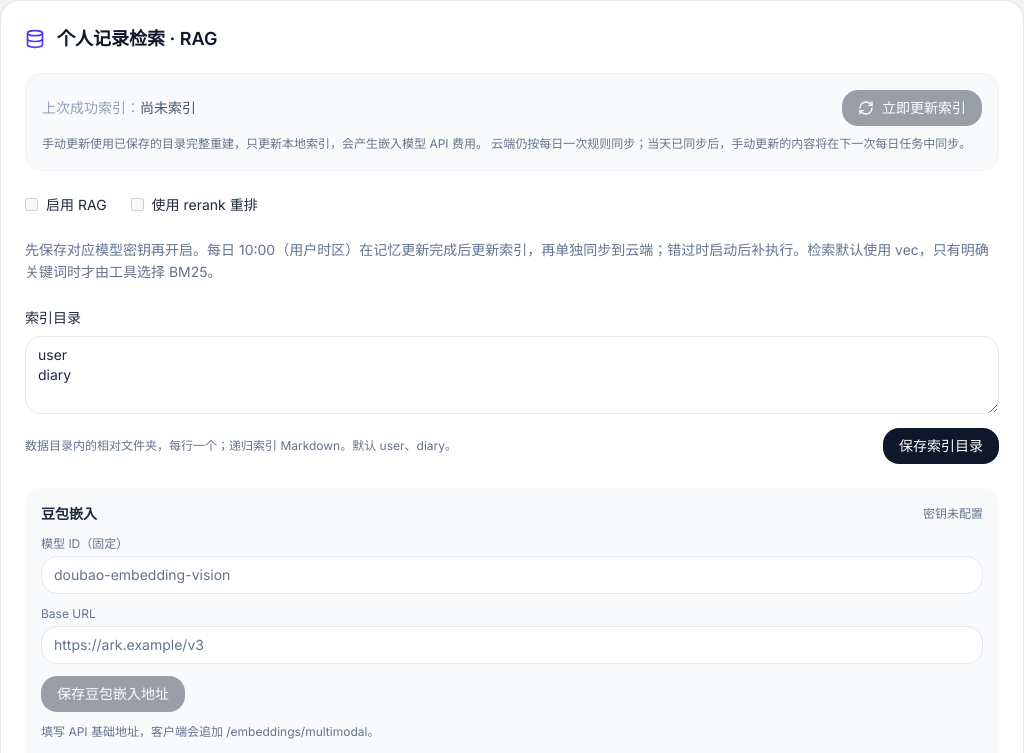
Test: RagConfigSection › reports failed directory updates without replacing saved settings
Step 1. Replace the text in the text box labelled "索引目录" with "../user" → (512, 375), box left=25, top=336, right=999, bottom=414
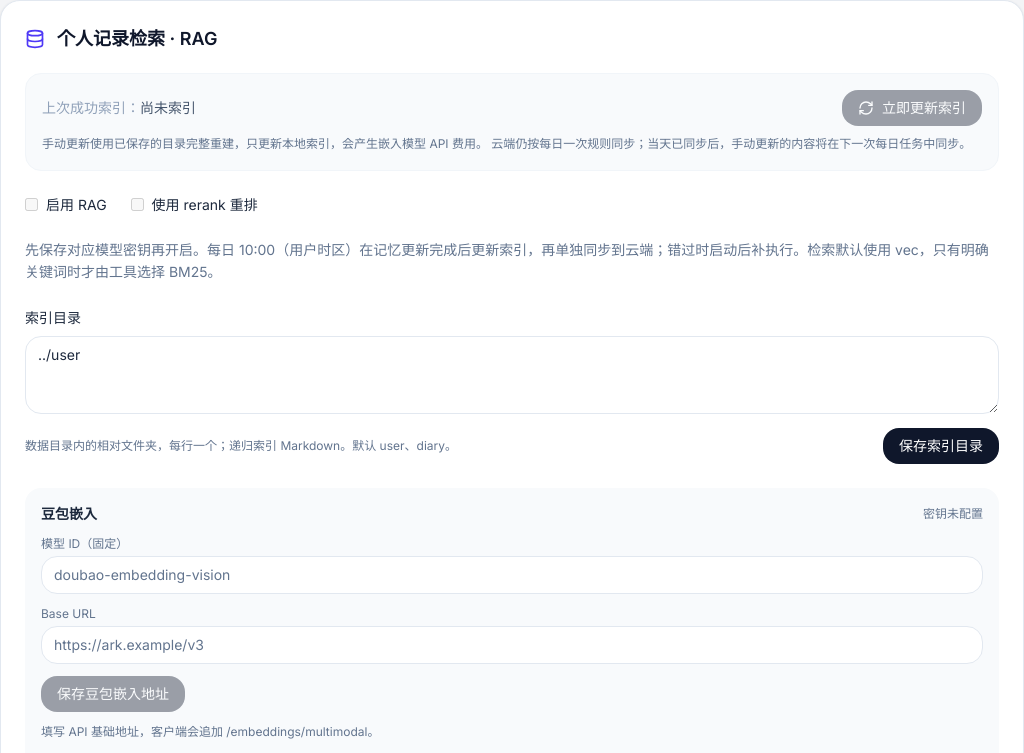
Step 2. Click the button "保存索引目录" → (941, 446), box left=883, top=428, right=999, bottom=464
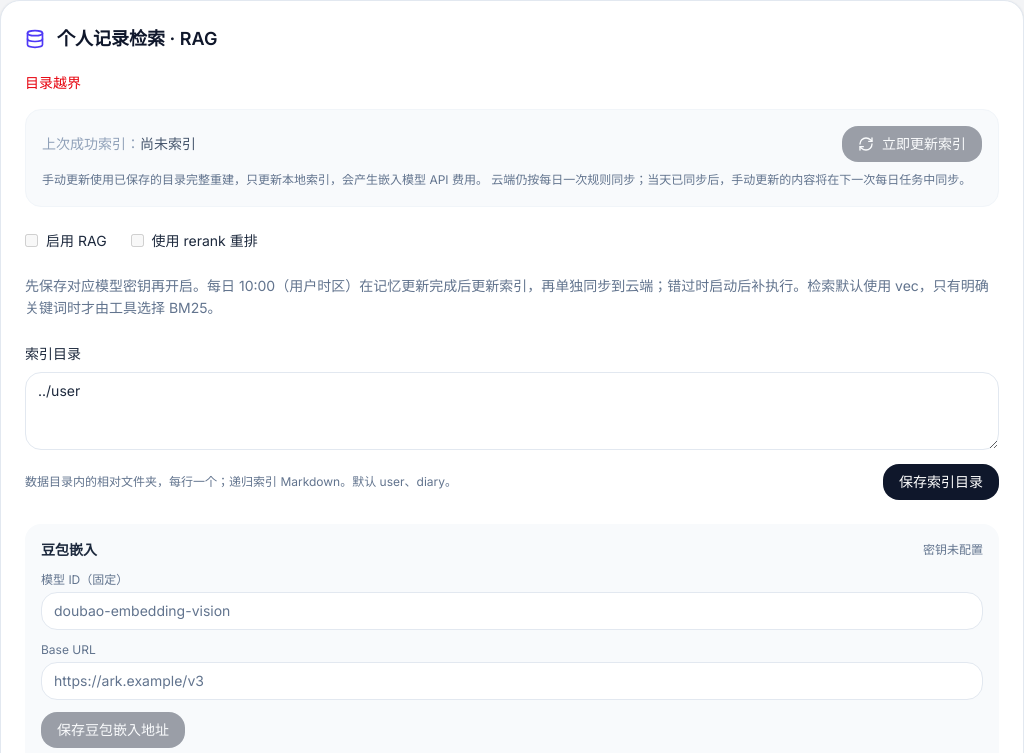
Now the message reads "目录越界", box left=25, top=74, right=81, bottom=91
